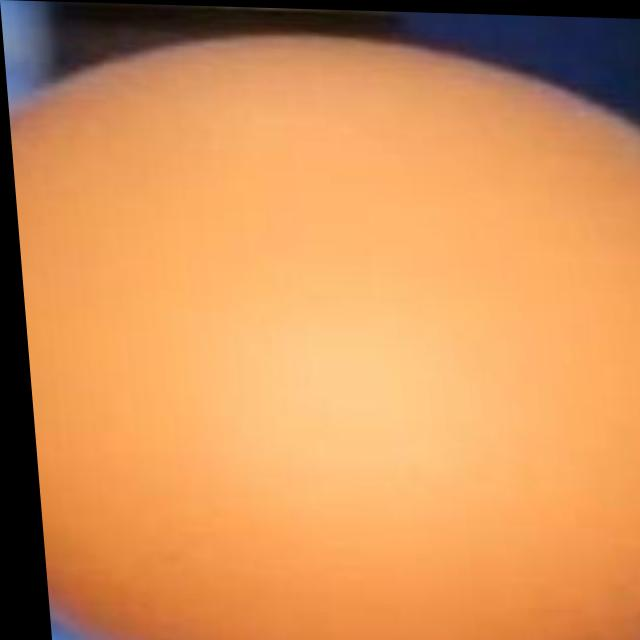fresh: (2, 36, 640, 640)
